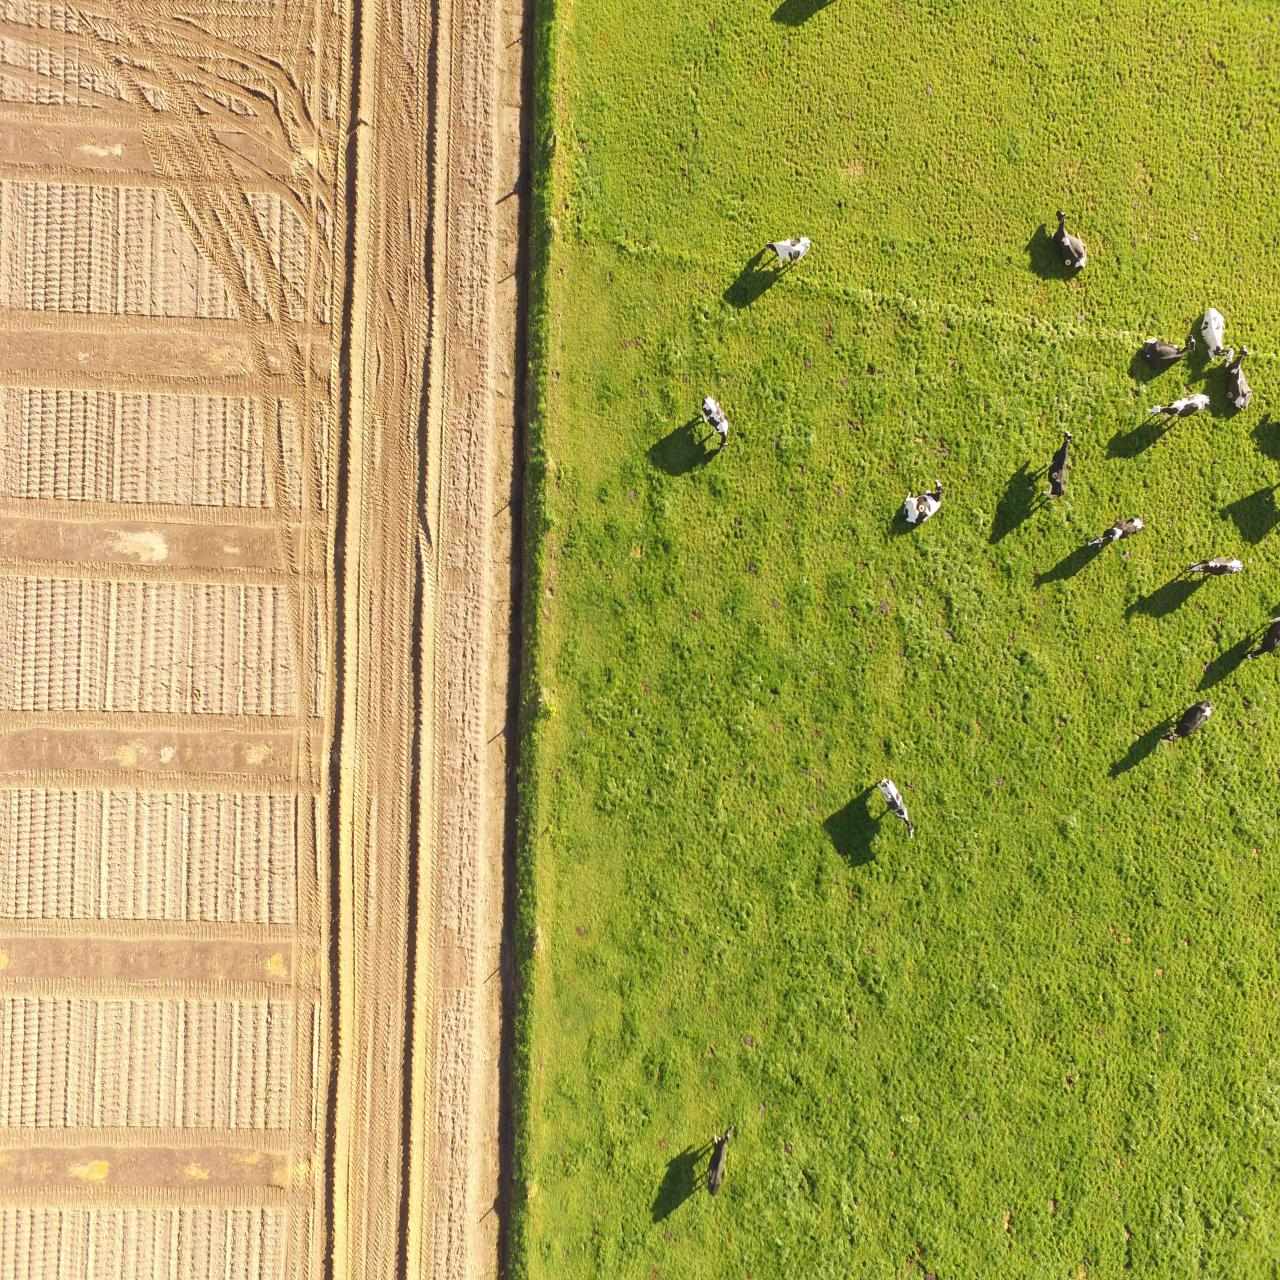cow: (870, 769, 918, 842), (1045, 207, 1090, 280), (704, 1116, 741, 1198), (690, 383, 736, 446), (1038, 432, 1076, 504), (1129, 334, 1197, 374), (1240, 604, 1280, 672), (898, 476, 949, 528), (1164, 696, 1214, 746), (1194, 299, 1231, 364), (760, 223, 811, 268), (1146, 389, 1208, 423), (1088, 513, 1142, 552), (1222, 344, 1248, 418), (1184, 555, 1241, 582)
